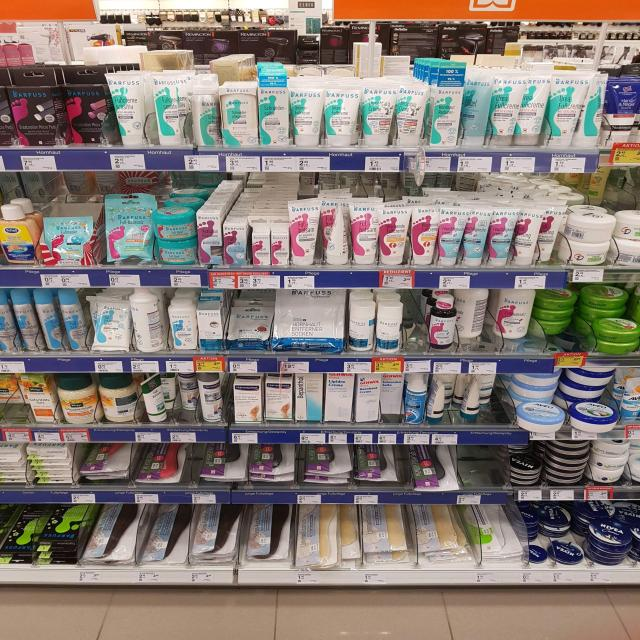empty_space: (466, 440, 506, 484)
